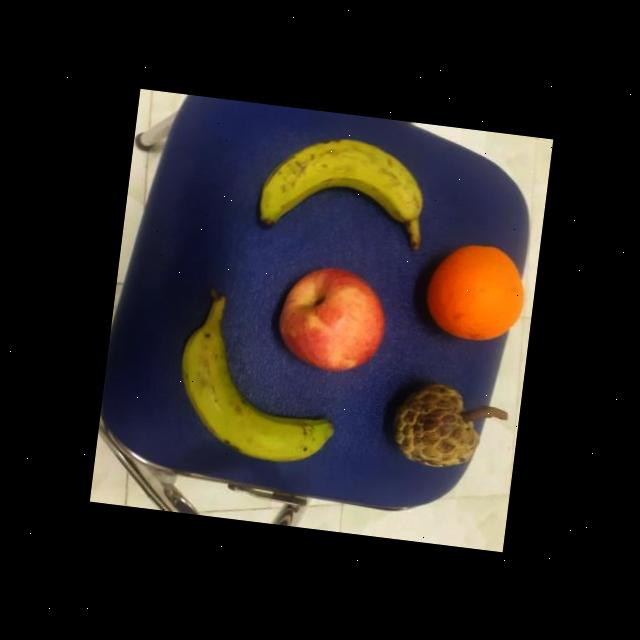Sakya fruit: (380, 379, 486, 471)
apple: (270, 260, 390, 378)
banana: (166, 282, 352, 472), (251, 124, 434, 254)
orange: (414, 238, 529, 348)
